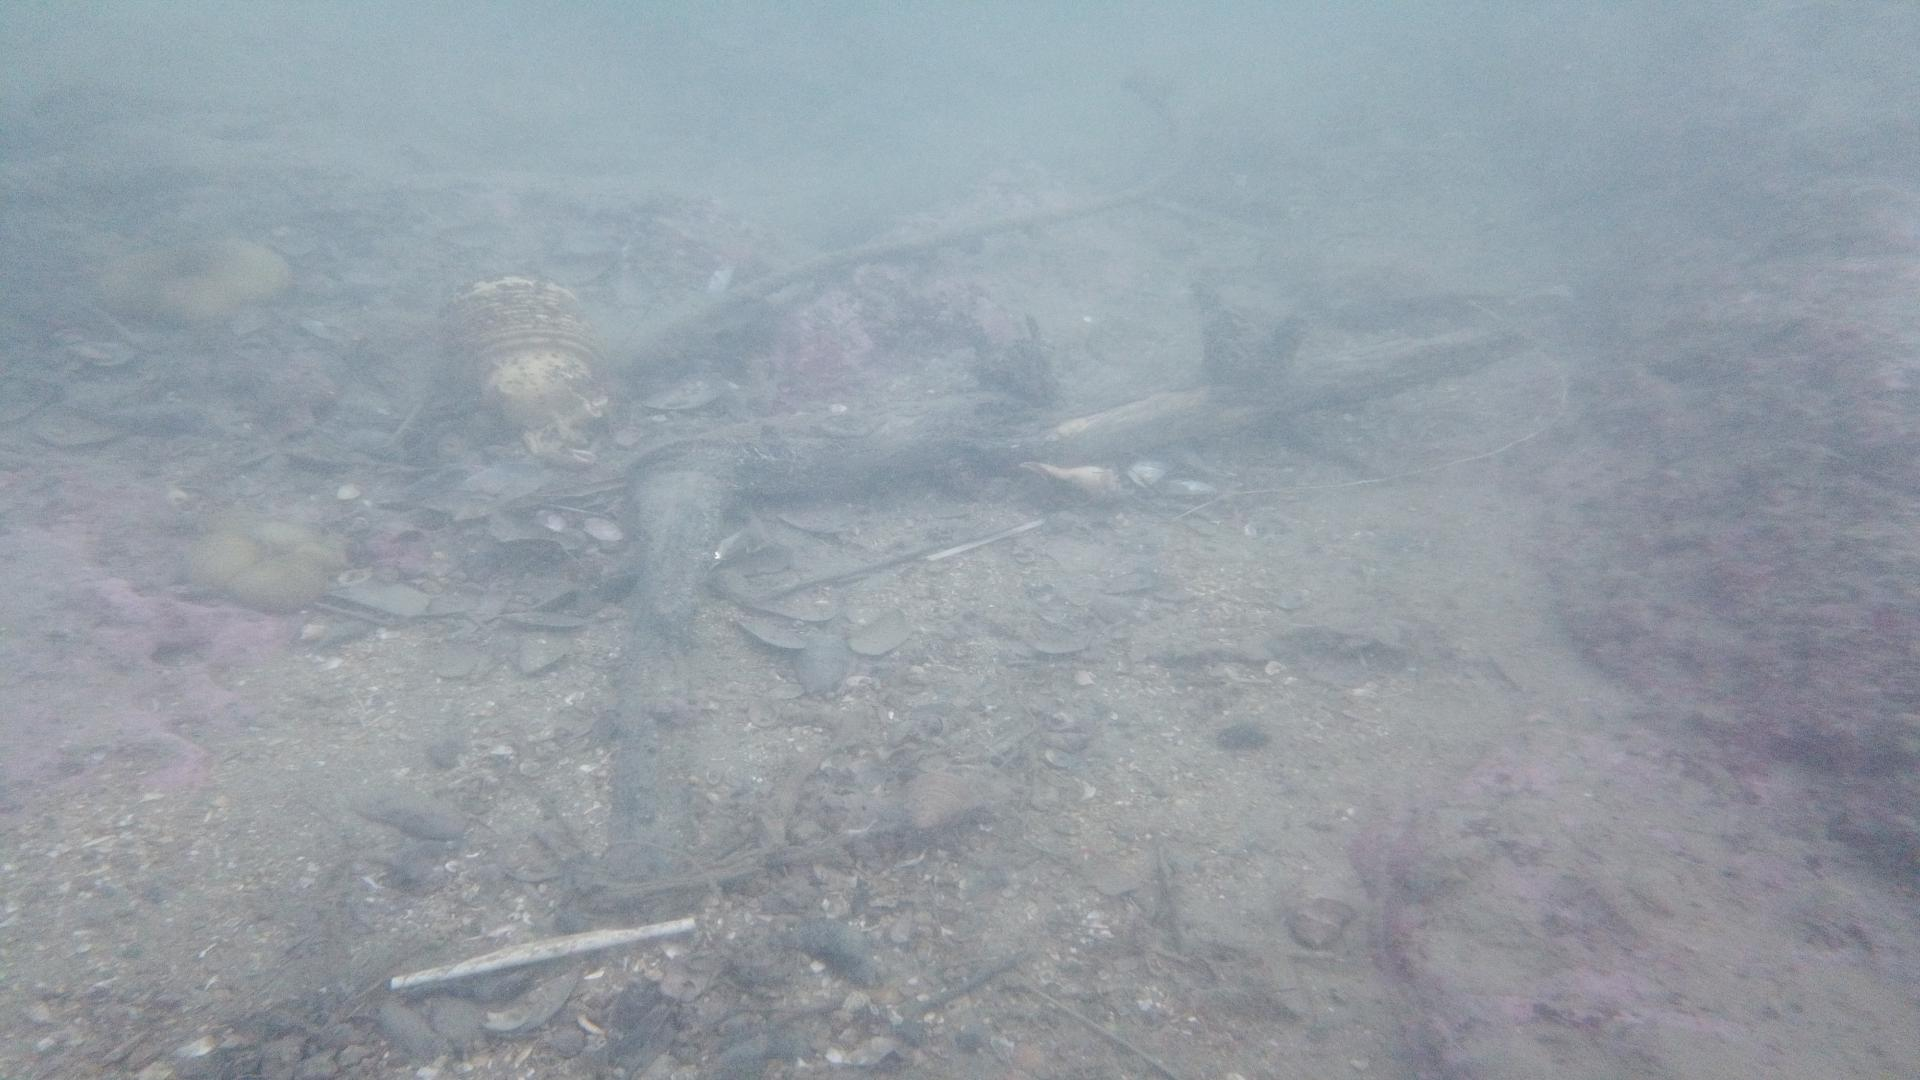rope: (618, 104, 1189, 365)
wood: (603, 323, 1538, 920)
